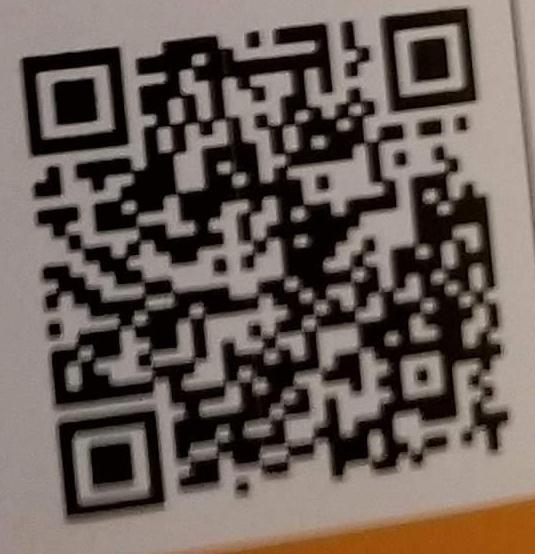qrcode: (20, 8, 512, 524)
